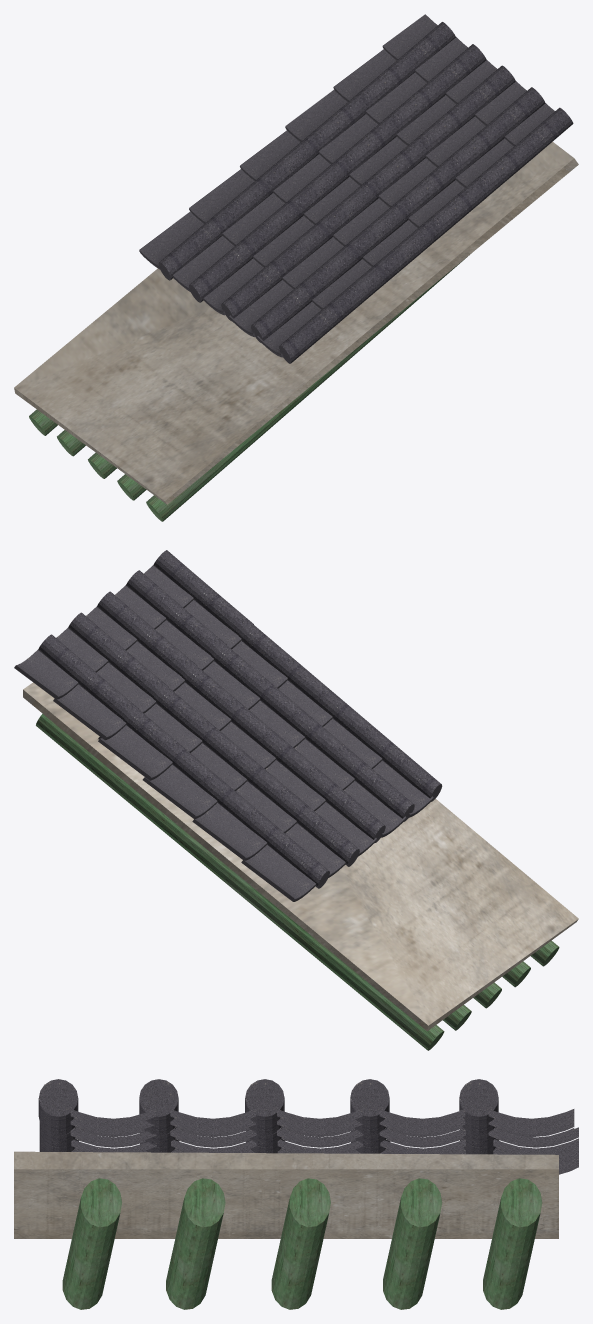
The model's file is SM_Roof_11.fbx.
3 renders of one model, top to bottom at view 1: azimuth 30°, elevation 25°; view 2: azimuth 150°, elevation 25°; view 3: azimuth 270°, elevation 25°, orthographic. The views are drawn at different scales.
Parts seen in each view (by area): view 1: SM_Roof_11; view 2: SM_Roof_11; view 3: SM_Roof_11.
Boxes of the visible parts, x1,y1,x2,y2 form: SM_Roof_11: (14, 14, 578, 521); SM_Roof_11: (14, 550, 578, 1050); SM_Roof_11: (14, 1079, 578, 1309).
Size of the model in its own units: 348 by 225 by 253.
Materials: 3 (3 with a texture image).
